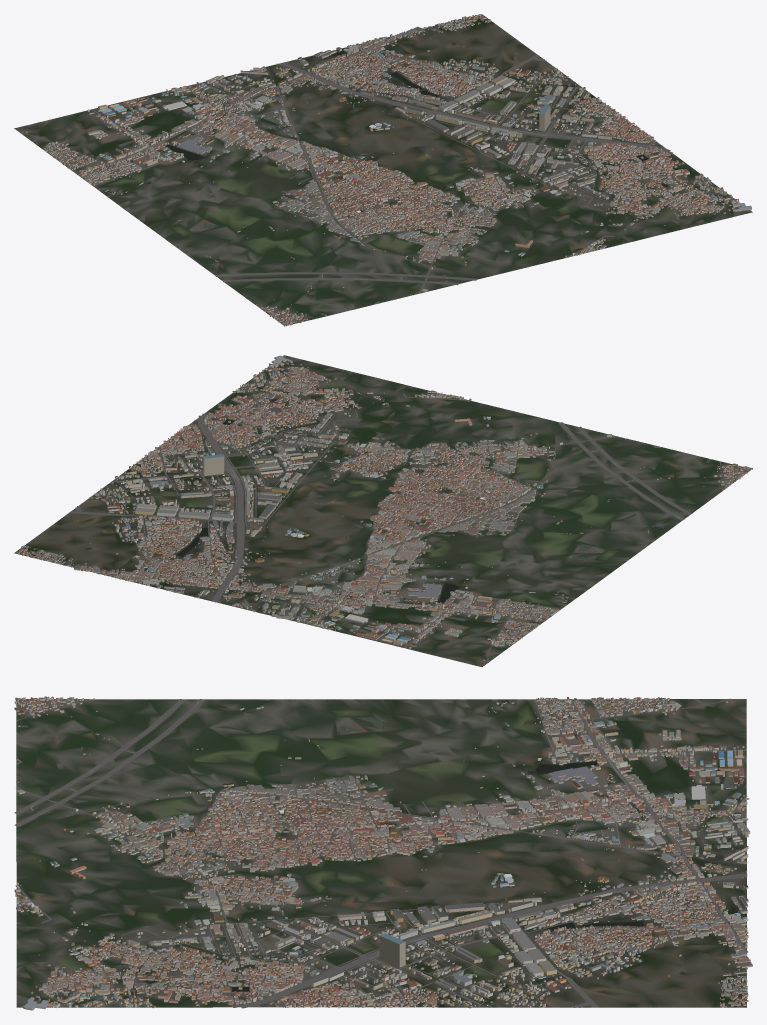
3 renders of one model, top to bottom at view 1: azimuth 30°, elevation 25°; view 2: azimuth 150°, elevation 25°; view 3: azimuth 270°, elevation 25°, orthographic. The views are drawn at different scales.
Parts seen in each view (by area): view 1: ground, buildings, roads, water; view 2: ground, buildings, roads, water; view 3: ground, buildings, roads, water.
Part boxes in pixels (left/top/right/bottom): ground: left=14, top=14, right=752, bottom=325; buildings: left=25, top=14, right=751, bottom=326; roads: left=20, top=34, right=732, bottom=322; water: left=165, top=52, right=667, bottom=228; ground: left=14, top=355, right=752, bottom=666; buildings: left=16, top=355, right=752, bottom=660; roads: left=69, top=366, right=742, bottom=662; water: left=126, top=399, right=596, bottom=612; ground: left=16, top=699, right=746, bottom=1007; buildings: left=14, top=696, right=752, bottom=1010; roads: left=14, top=698, right=748, bottom=1008; water: left=144, top=717, right=746, bottom=1007.
Bounding box in the file's own units: 2834 × 105 × 2837.
